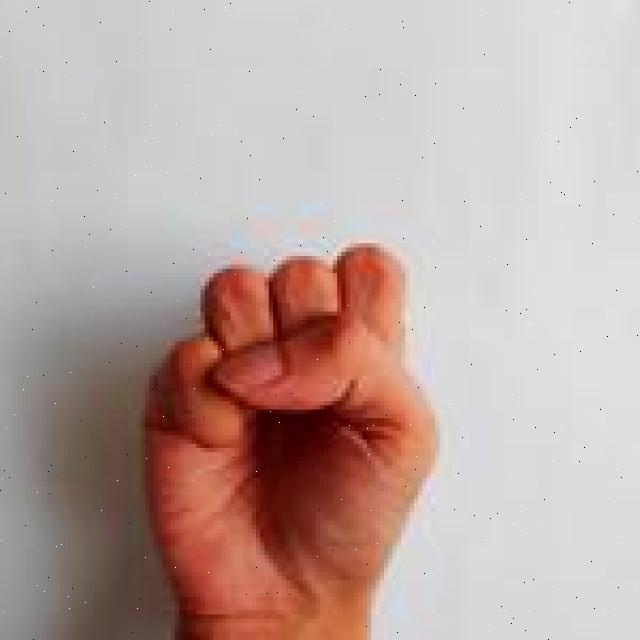S: (132, 237, 443, 640)
